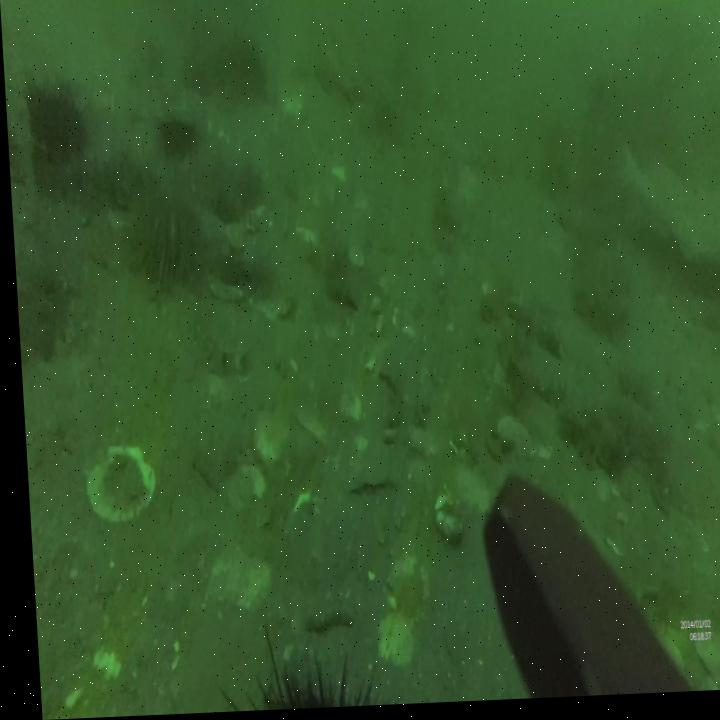echinus: (22, 83, 84, 163), (156, 113, 194, 160)
holothurian: (501, 296, 572, 364), (501, 355, 567, 416)
